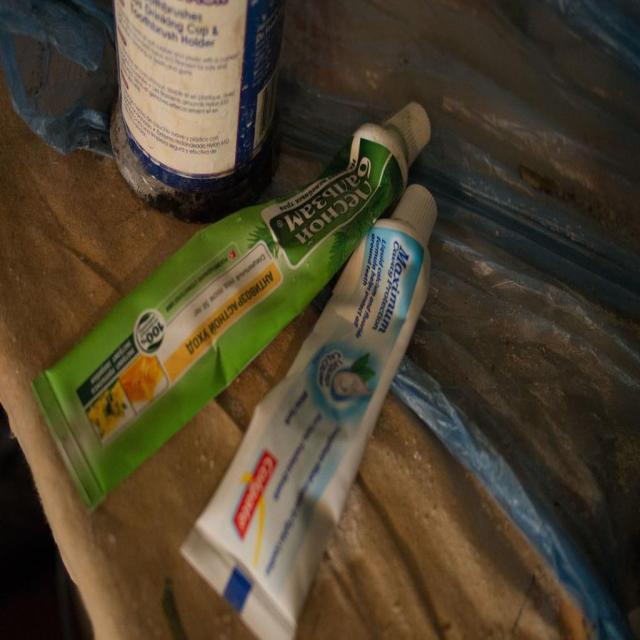Toothpaste: (31, 89, 445, 633)
